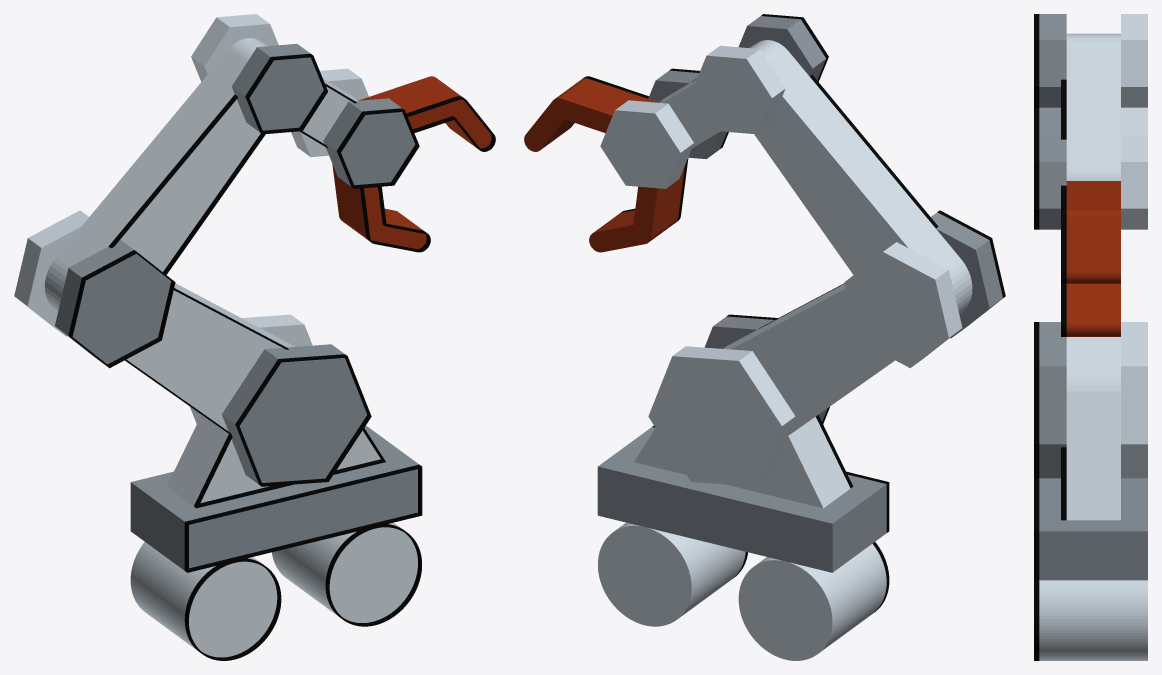
Rendered from bot_w_outlines.dae.
3 views of the same model, side by side, from view 1: azimuth 30°, elevation 25°; view 2: azimuth 150°, elevation 25°; view 3: azimuth 270°, elevation 25° (orthographic).
Parts seen in each view (by area): view 1: 5d8ffb47e62cd41572b264fa (×24); view 2: 5d8ffb47e62cd41572b264fa (×14); view 3: 5d8ffb47e62cd41572b264fa (×21).
Boxes of the visible parts, x1,y1,x2,y2 form: 5d8ffb47e62cd41572b264fa (×24): [14, 14, 495, 660]; 5d8ffb47e62cd41572b264fa (×14): [524, 16, 1002, 660]; 5d8ffb47e62cd41572b264fa (×21): [1034, 14, 1147, 660].
Bounding box in the file's own units: 0.0934 × 0.021 × 0.1204.
